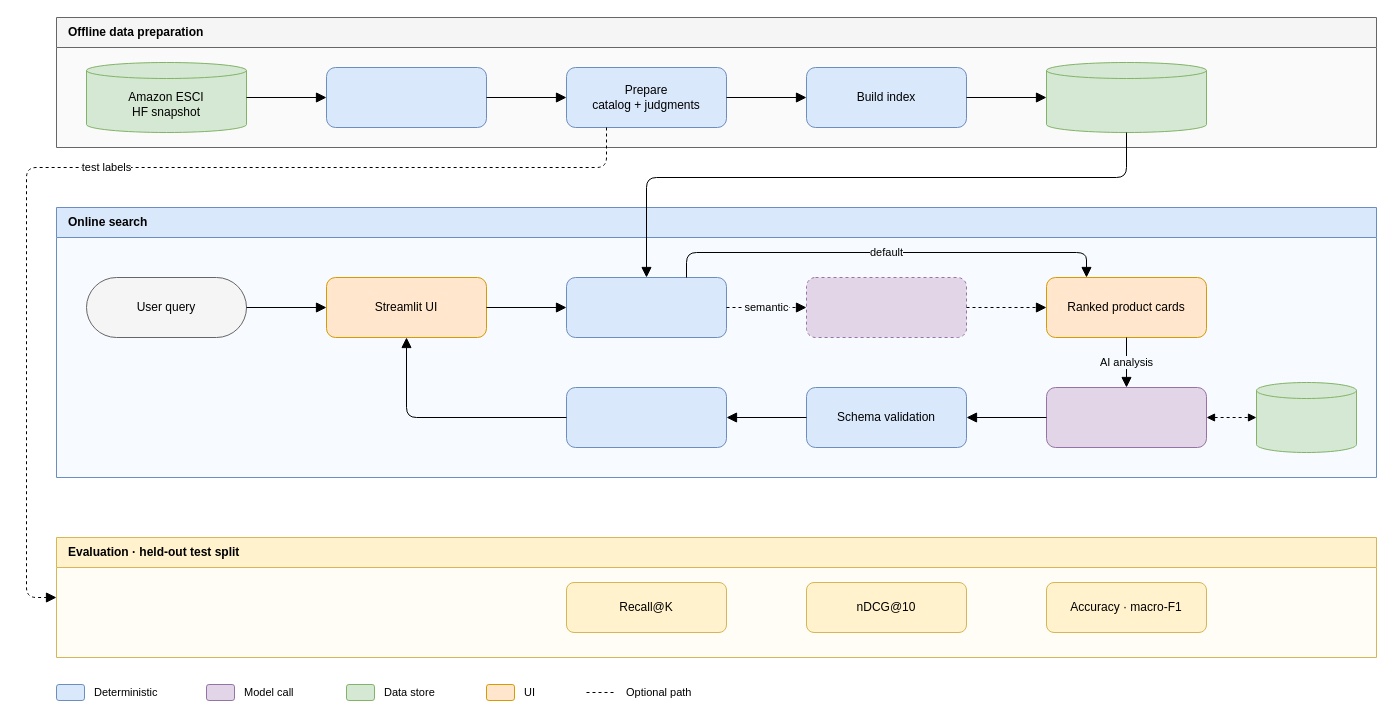
The diagram is 1394 pixels wide and 725 high, and some of its shapes have lost their labels. The centre of each missing label's shape, as x and y in pixels:
BM25 retrieval top 100: the point at 646,307
Download SHA-256 verify: the point at 406,97
ESCI classification OpenRouter LLM · top 10: the point at 1126,417
Group E / S / C / I: the point at 646,417
MiniLM rerank top 50: the point at 886,307
Response cache: the point at 1306,417
SQLite FTS5 482k products: the point at 1126,97
